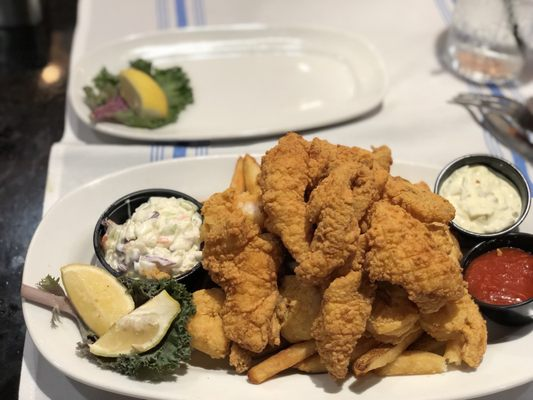curry: (151, 65, 195, 109)
sushi: (64, 1, 396, 145), (434, 154, 533, 238), (462, 233, 533, 325)
taco: (59, 263, 135, 337)
